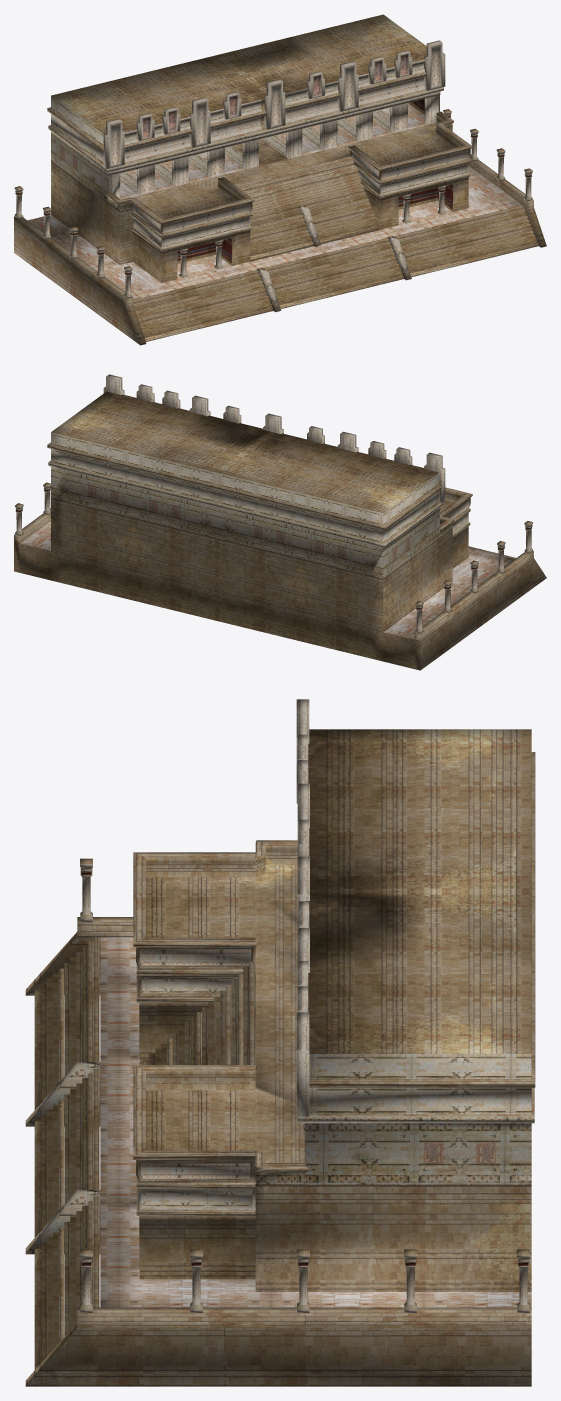
The model's file is temple.dae.
The picture shows the model from 3 angles, top to bottom: view 1: azimuth 30°, elevation 25°; view 2: azimuth 150°, elevation 25°; view 3: azimuth 270°, elevation 25°; orthographic projection. The views are drawn at different scales.
Parts seen in each view (by area): view 1: meshU3D; view 2: meshU3D; view 3: meshU3D.
Part boxes in pixels (x1,y1,x2,y2): meshU3D: [14, 14, 546, 345]; meshU3D: [14, 374, 546, 670]; meshU3D: [25, 699, 535, 1386].
Size of the model in its own units: 1268 by 486 by 689.
4 materials, 4 textured.
